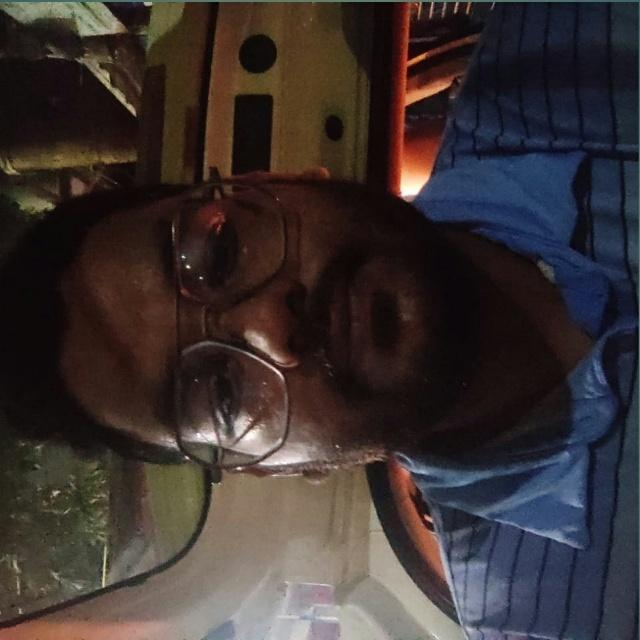Natural: (100, 110, 462, 526)
